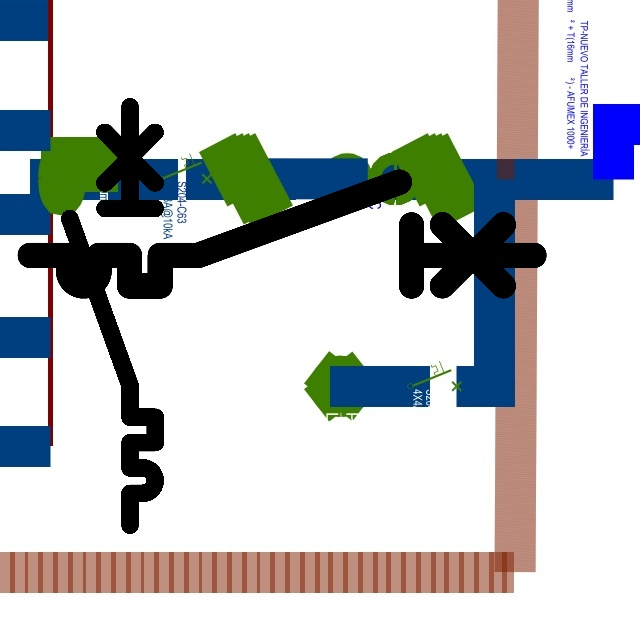interruptor_termomagnetico: (17, 169, 547, 299), (59, 96, 166, 536)
